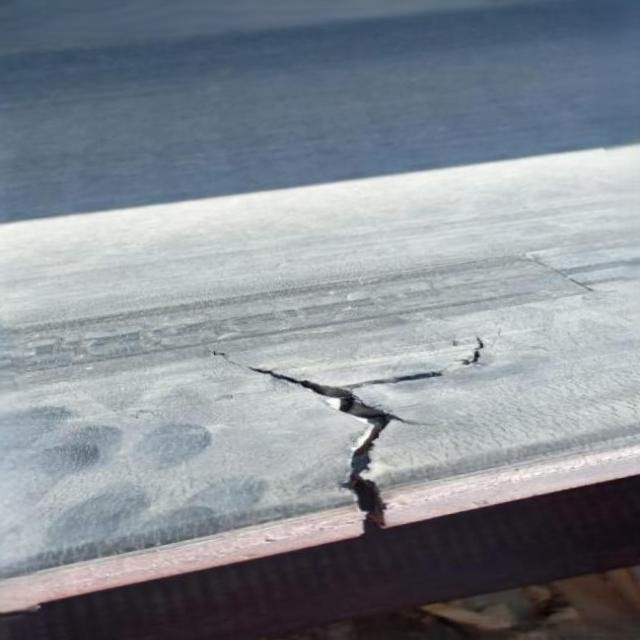Tear: (197, 320, 450, 546), (458, 317, 494, 373)
